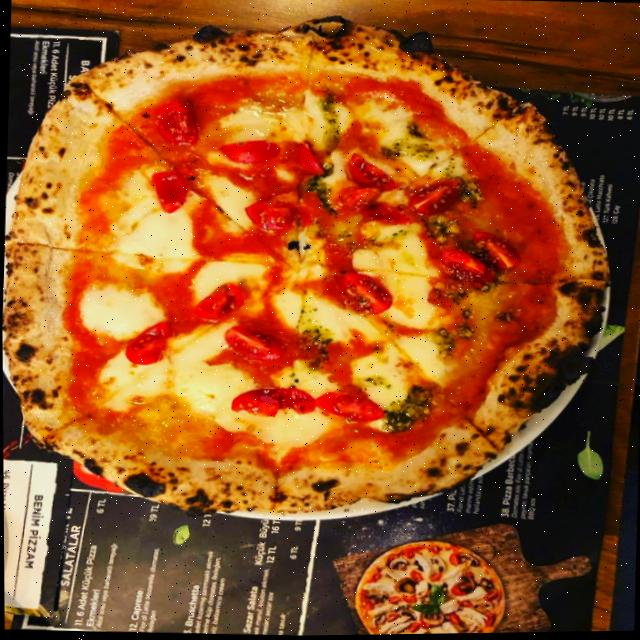pizza: (0, 1, 618, 529)
tomatoes: (228, 383, 314, 423), (309, 386, 389, 427), (182, 279, 245, 327), (335, 268, 393, 319), (407, 171, 469, 218), (341, 148, 401, 193), (432, 246, 495, 287), (240, 191, 297, 236), (119, 317, 171, 364), (152, 98, 200, 148), (144, 163, 188, 217), (221, 325, 285, 361), (215, 133, 279, 168), (470, 230, 518, 271), (290, 135, 330, 175), (329, 186, 378, 214)
